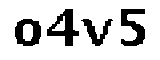4: (44, 4, 82, 52)
5: (116, 3, 148, 50)
o: (12, 19, 41, 50)
v: (82, 15, 114, 49)
